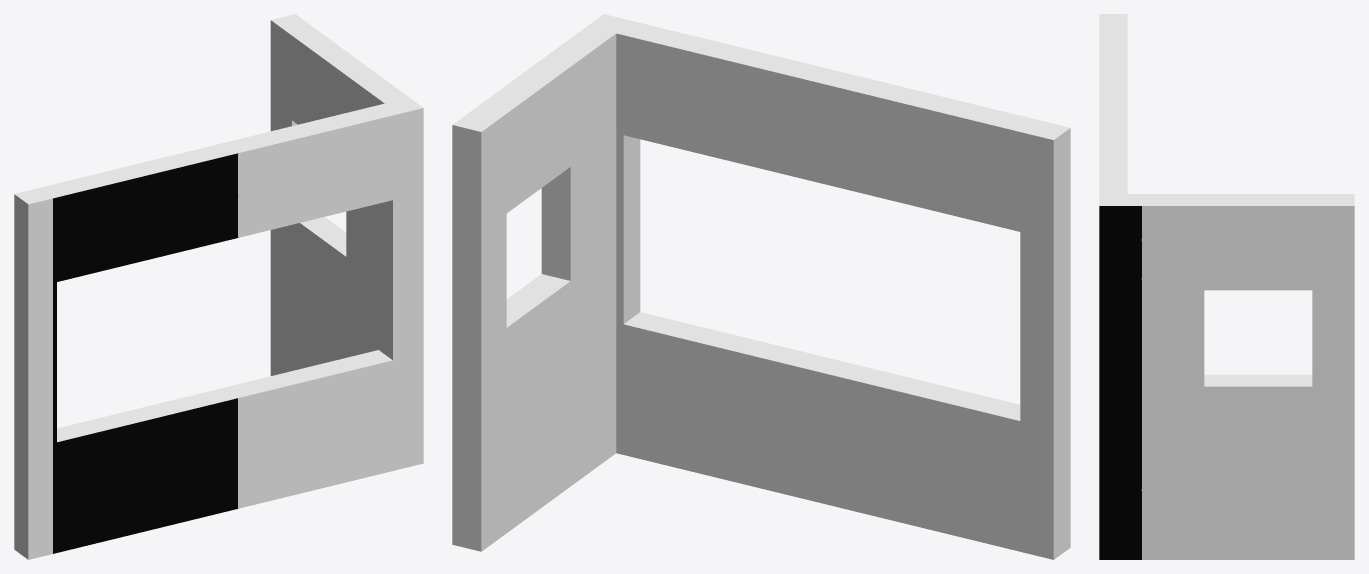
The model's file is c0_BEa_32x18M.fbx.
3 views of the same model, side by side, from view 1: azimuth 30°, elevation 25°; view 2: azimuth 150°, elevation 25°; view 3: azimuth 270°, elevation 25° (orthographic). The views are drawn at different scales.
Parts seen in each view (by area): view 1: wall; view 2: wall; view 3: wall.
Part boxes in pixels (box(x1,y1,x2,y2)): wall: box(14, 14, 423, 559); wall: box(452, 14, 1070, 559); wall: box(1099, 14, 1354, 559).
Size of the model in its own units: 32 by 27.5 by 18.
